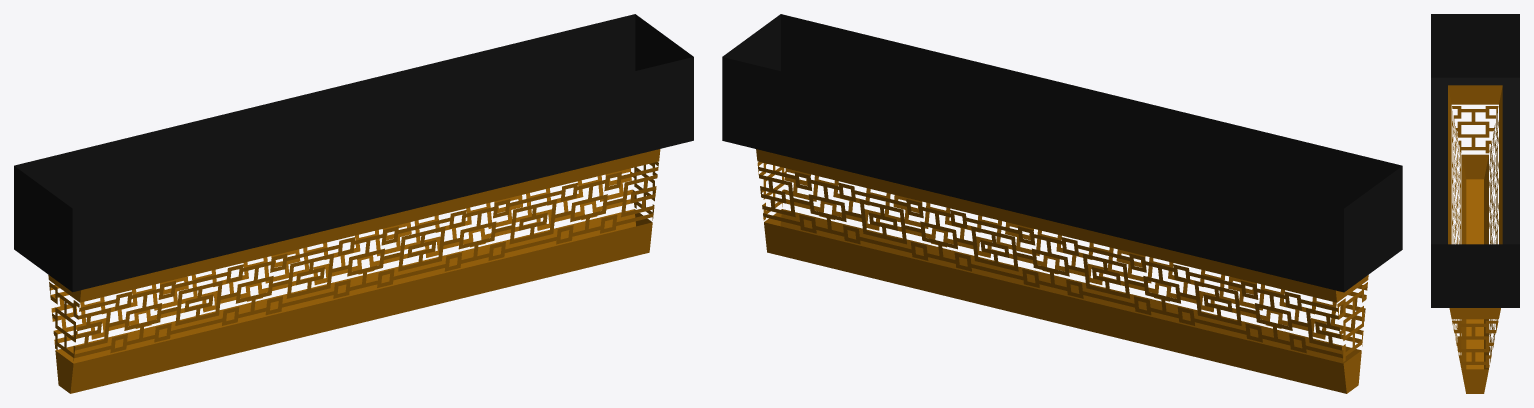
Rendered from Fountain Straight.fbx.
3 renders of one model, left to right at view 1: azimuth 30°, elevation 25°; view 2: azimuth 150°, elevation 25°; view 3: azimuth 270°, elevation 25°, orthographic. The views are drawn at different scales.
Visible parts, largest first — view 1: Fountain Straight; view 2: Fountain Straight; view 3: Fountain Straight.
Part boxes in pixels (bbox=[...]): Fountain Straight: bbox=[14, 14, 693, 393]; Fountain Straight: bbox=[722, 14, 1402, 393]; Fountain Straight: bbox=[1431, 14, 1519, 393].
Size of the model in its own units: 921 by 294 by 150.
